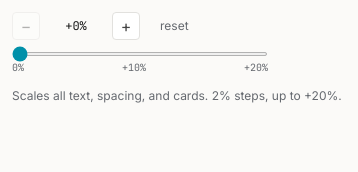
it: UIScaleControl › increment + decrement update the persisted percent
The width and height of the screenshot is (358, 172).
Expected: the text "+0%" is shown, [65,18,87,34]
Step 1. Click the button named "increase ui scale" → (126, 26), box [112,12,140,40]
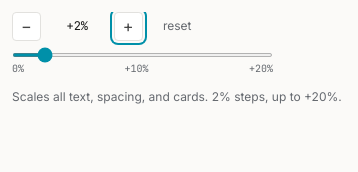
Expected: the text "+2%" is shown, [66,18,88,34]
Step 2. Click the button named "increase ui scale" → (128, 26), box [114,12,142,40]
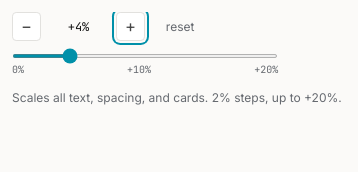
Expected: the text "+4%" is shown, [68,18,89,34]
Step 3. Click the button named "decrease ui scale" → (27, 27), box [12,12,41,41]
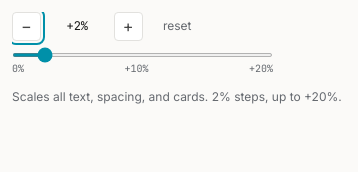
Expected: the text "+2%" is shown, [66,18,88,34]
